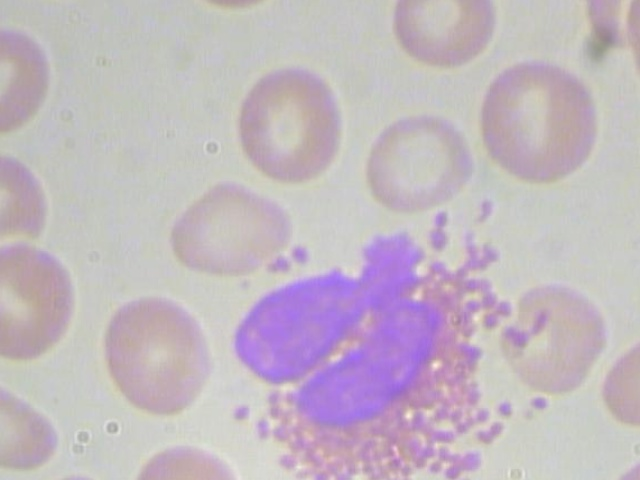RBC: (87, 285, 227, 419), (466, 52, 606, 186), (229, 52, 345, 189), (232, 54, 347, 191), (489, 270, 610, 393), (163, 174, 300, 281), (362, 110, 476, 217), (0, 234, 85, 368), (387, 0, 502, 68), (596, 328, 640, 431)
WBC: (219, 189, 559, 480)
